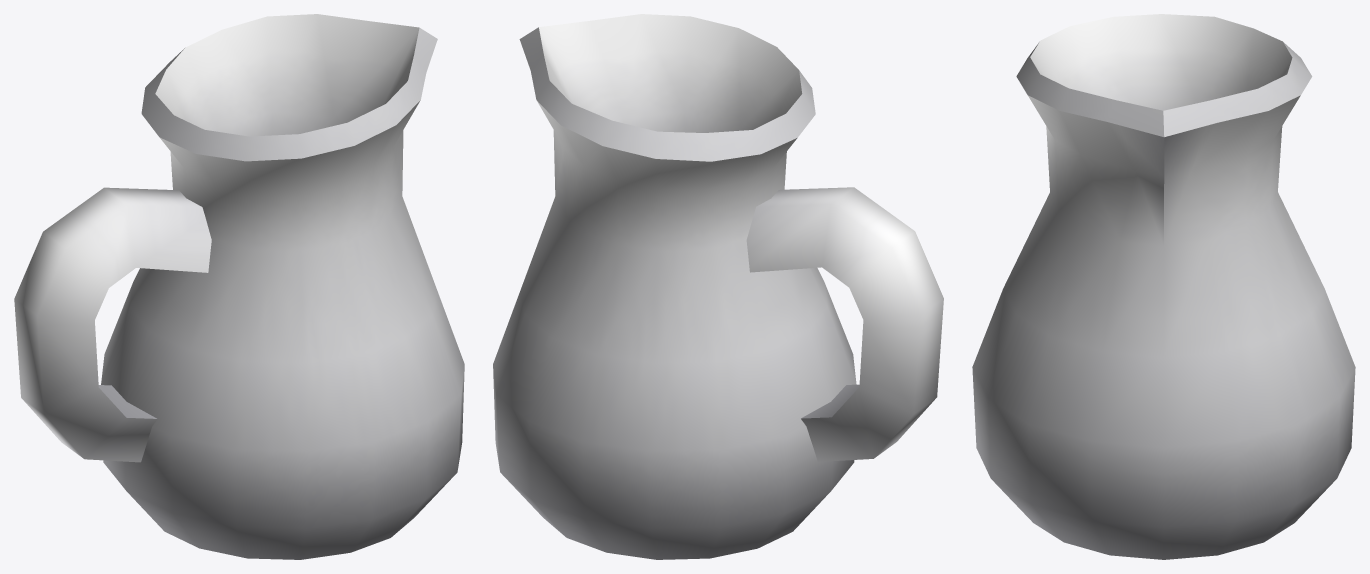
File: m_Creamer01.fbx
3 views of the same model, side by side, from view 1: azimuth 30°, elevation 25°; view 2: azimuth 150°, elevation 25°; view 3: azimuth 270°, elevation 25° (orthographic). The views are drawn at different scales.
Visible parts, largest first — view 1: m_Creamer01; view 2: m_Creamer01; view 3: m_Creamer01.
Part boxes in pixels (left/top/right/bottom): m_Creamer01: left=14, top=14, right=464, bottom=559; m_Creamer01: left=493, top=14, right=943, bottom=559; m_Creamer01: left=972, top=14, right=1355, bottom=559.
Size of the model in its own units: 9.64 by 9.78 by 7.41.
